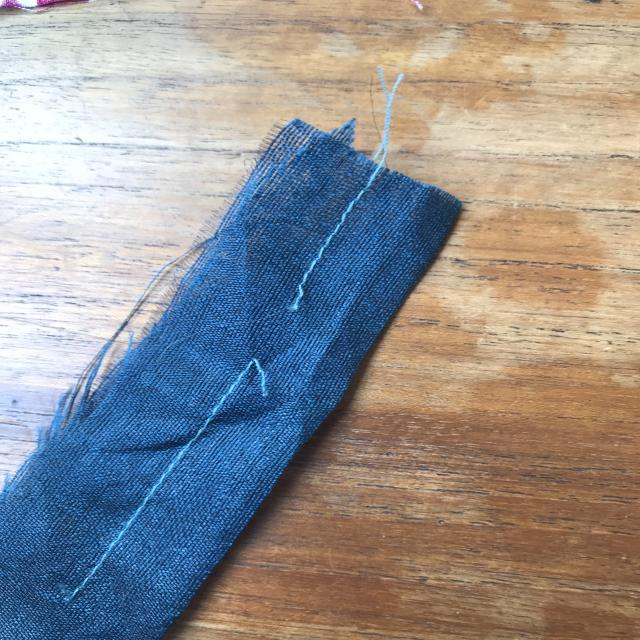broken: (239, 265, 316, 408)
